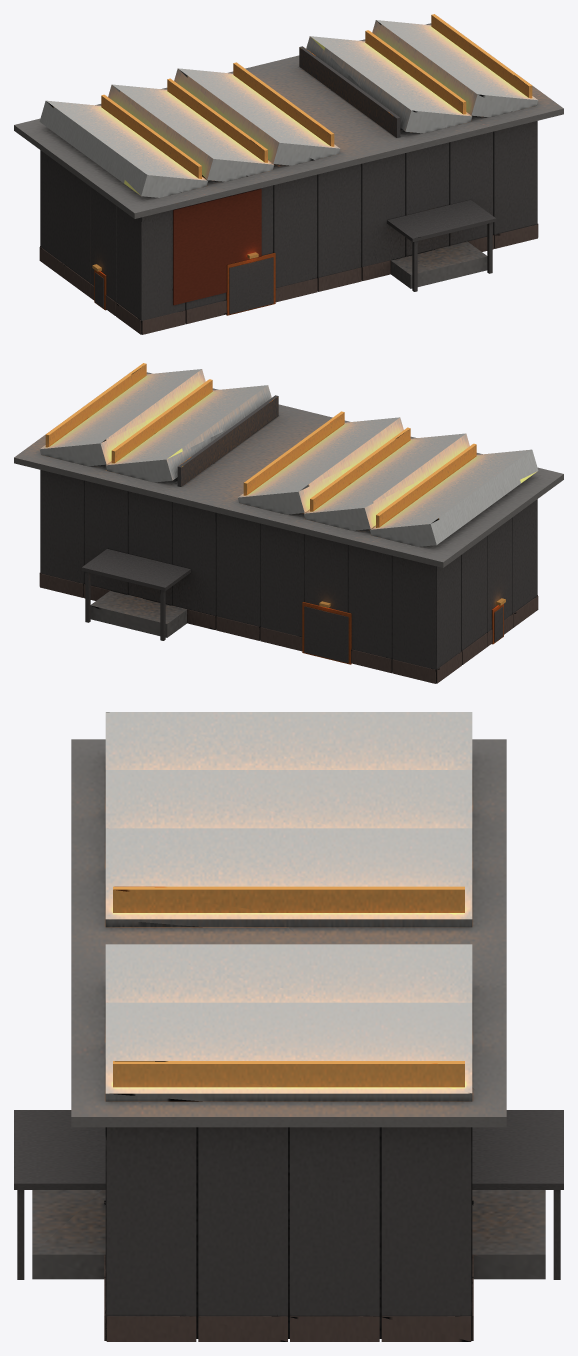
Rendered from B_hall_b.glb.
The picture shows the model from 3 angles, top to bottom: view 1: azimuth 30°, elevation 25°; view 2: azimuth 150°, elevation 25°; view 3: azimuth 270°, elevation 25°; orthographic projection. The views are drawn at different scales.
Visible parts, largest first — view 1: Cube; view 2: Cube; view 3: Cube.
Part boxes in pixels (bbox=[...]): Cube: bbox=[14, 14, 563, 334]; Cube: bbox=[14, 363, 563, 683]; Cube: bbox=[14, 712, 563, 1341].
Size of the model in its own units: 39 by 13.86 by 24.
Materials: 1 (1 with a texture image).
